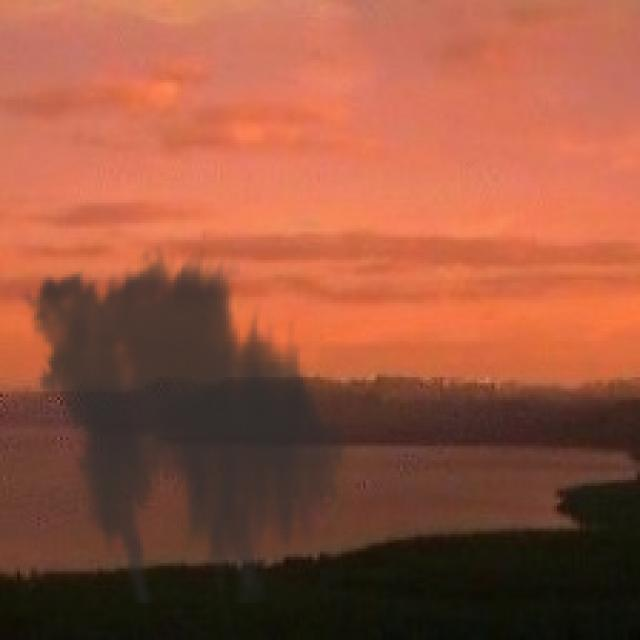Smoke: (14, 240, 357, 603)
